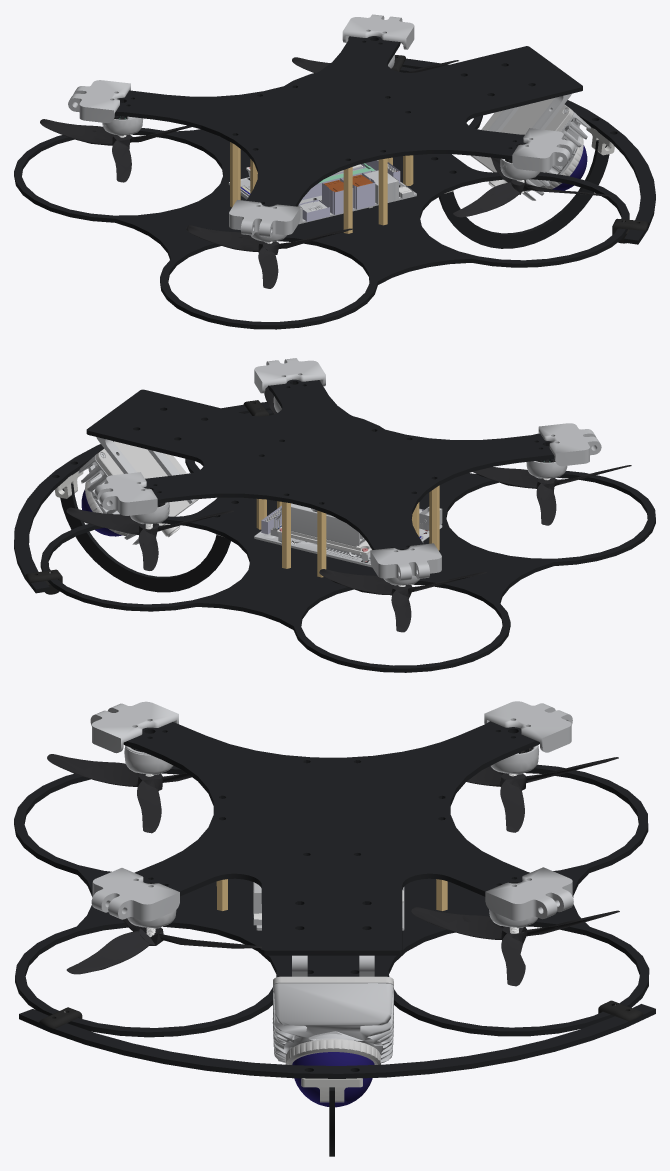
File: drone.glb
3 renders of one model, top to bottom at view 1: azimuth 30°, elevation 25°; view 2: azimuth 150°, elevation 25°; view 3: azimuth 270°, elevation 25°, orthographic. The views are drawn at different scales.
Visible parts, largest first — view 1: Carbon_Fiber_-_Plain, Steel_-_Satin, Prop_Static, Brass_-_Polished, Opaque(210,210,255), Opaque(220,220,220), Opaque(137,137,137), Rubber_-_Black; view 2: Carbon_Fiber_-_Plain, Steel_-_Satin, Prop_Static, Brass_-_Polished, Opaque(220,220,220), Opaque(162,175,191), Opaque(137,137,137), Rubber_-_Black, Opaque(224,242,255); view 3: Carbon_Fiber_-_Plain, Steel_-_Satin, Prop_Static, Opaque(137,137,137), Opaque(220,220,220), Opaque(17,1,151), Rubber_-_Black, ABS_(White), Brass_-_Polished.
Boxes of the visible parts, bbox=[...] form: Carbon_Fiber_-_Plain: bbox=[14, 36, 655, 329]; Steel_-_Satin: bbox=[68, 14, 590, 237]; Prop_Static: bbox=[40, 57, 613, 288]; Brass_-_Polished: bbox=[230, 142, 413, 233]; Opaque(210,210,255): bbox=[240, 160, 400, 221]; Opaque(220,220,220): bbox=[470, 98, 583, 189]; Opaque(137,137,137): bbox=[102, 54, 539, 242]; Rubber_-_Black: bbox=[391, 55, 648, 243]; Carbon_Fiber_-_Plain: bbox=[14, 379, 655, 672]; Steel_-_Satin: bbox=[78, 358, 601, 580]; Prop_Static: bbox=[66, 386, 631, 632]; Brass_-_Polished: bbox=[256, 485, 439, 577]; Opaque(220,220,220): bbox=[85, 441, 198, 535]; Opaque(162,175,191): bbox=[291, 503, 365, 546]; Opaque(137,137,137): bbox=[130, 396, 567, 585]; Rubber_-_Black: bbox=[25, 400, 269, 594]; Opaque(224,242,255): bbox=[161, 523, 425, 554]; Carbon_Fiber_-_Plain: bbox=[14, 721, 655, 1156]; Steel_-_Satin: bbox=[90, 701, 573, 1064]; Prop_Static: bbox=[47, 754, 619, 986]; Opaque(137,137,137): bbox=[124, 745, 538, 928]; Opaque(220,220,220): bbox=[273, 976, 393, 1064]; Opaque(17,1,151): bbox=[292, 1052, 374, 1107]; Rubber_-_Black: bbox=[39, 1000, 642, 1028]; ABS_(White): bbox=[301, 1078, 362, 1102]; Brass_-_Polished: bbox=[216, 879, 447, 910].
Bounding box in the file's own units: 0.3928 × 0.1294 × 0.3436.
